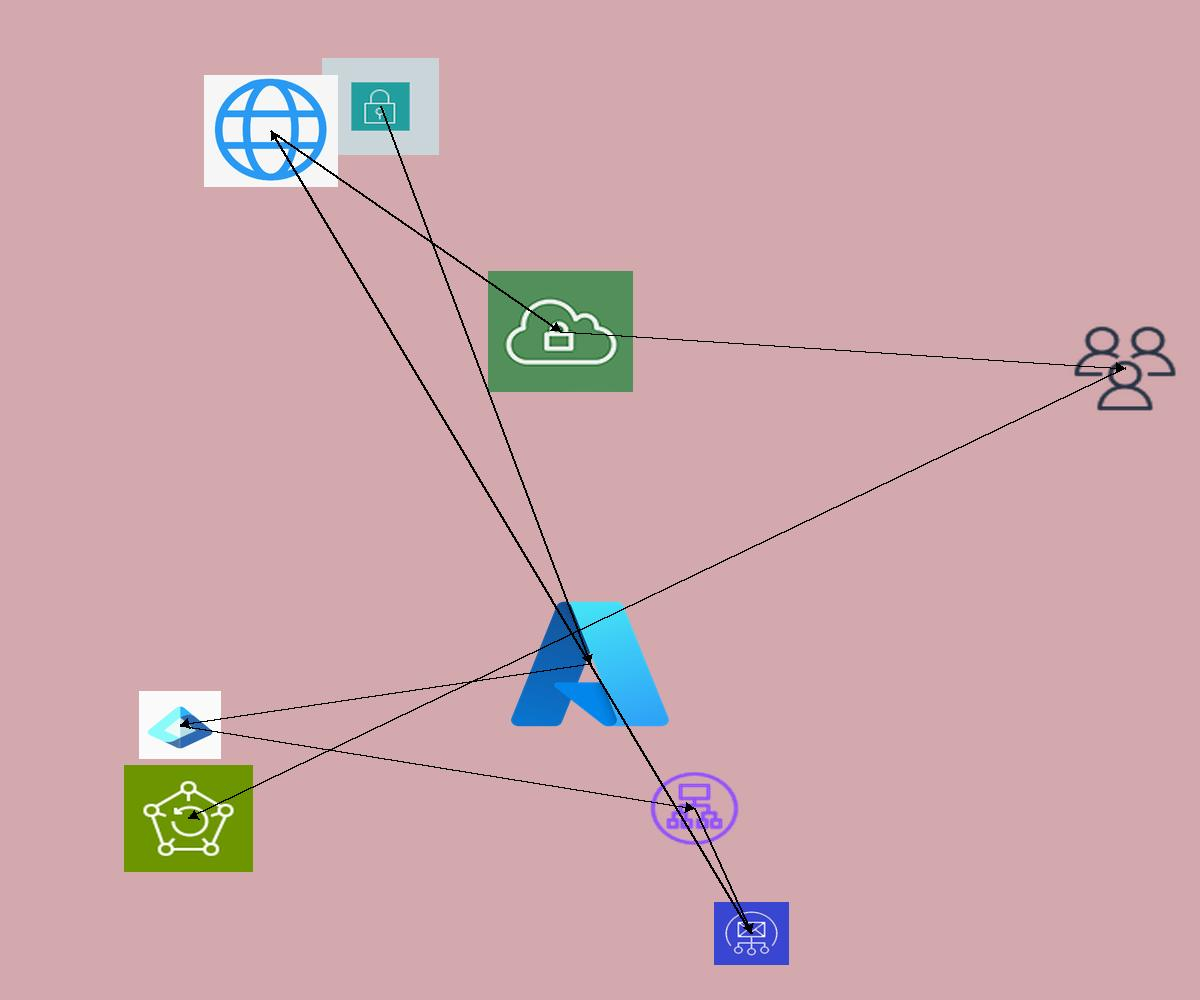AWS-Backup: (124, 765, 253, 872)
AWS-Private-subnet: (322, 58, 439, 155)
AWS-Private_vpc: (488, 271, 633, 392)
AWS-Res_Elastic-Load-Balancing_Application-Load-Balancer: (647, 769, 742, 848)
AWS-Res_Users: (1070, 323, 1180, 414)
AWS-Simple-Email-Service: (714, 902, 789, 965)
Azure_http: (204, 75, 338, 187)
Azure_microsoft_entra: (139, 691, 221, 759)
Azure_services: (504, 592, 676, 736)
